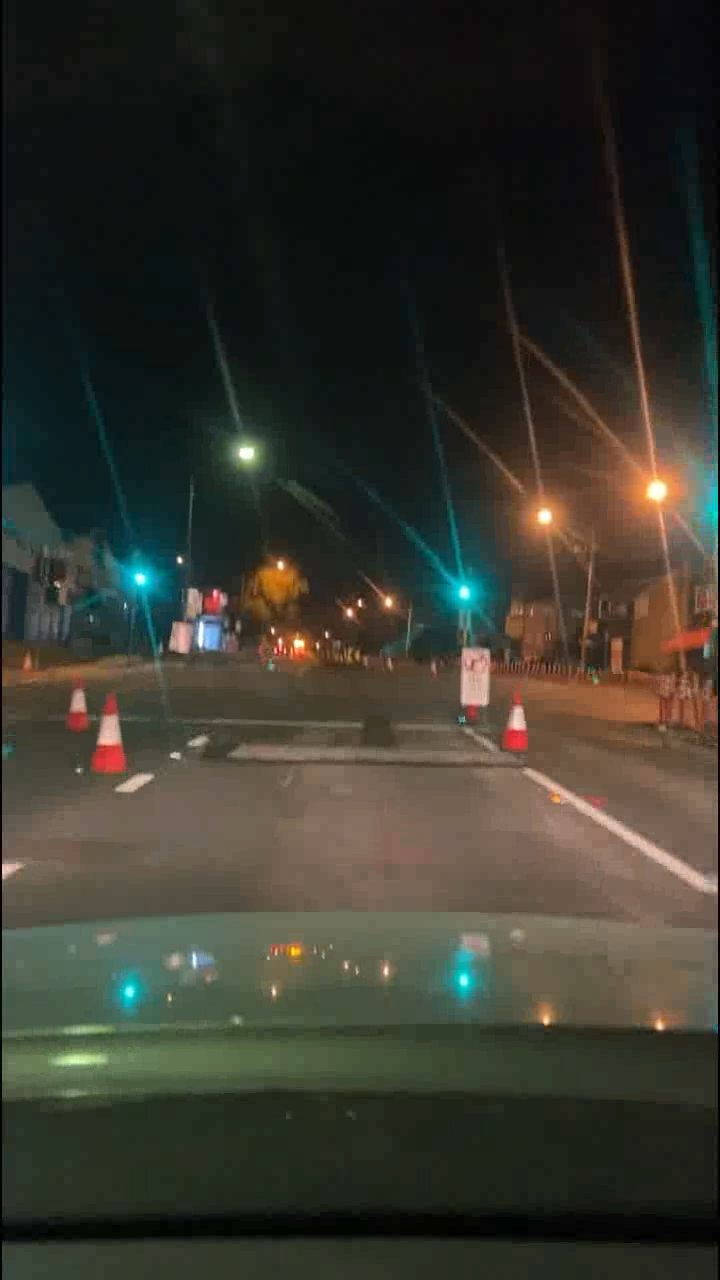road cone: (84, 690, 127, 776), (501, 680, 543, 766), (52, 667, 95, 736)
